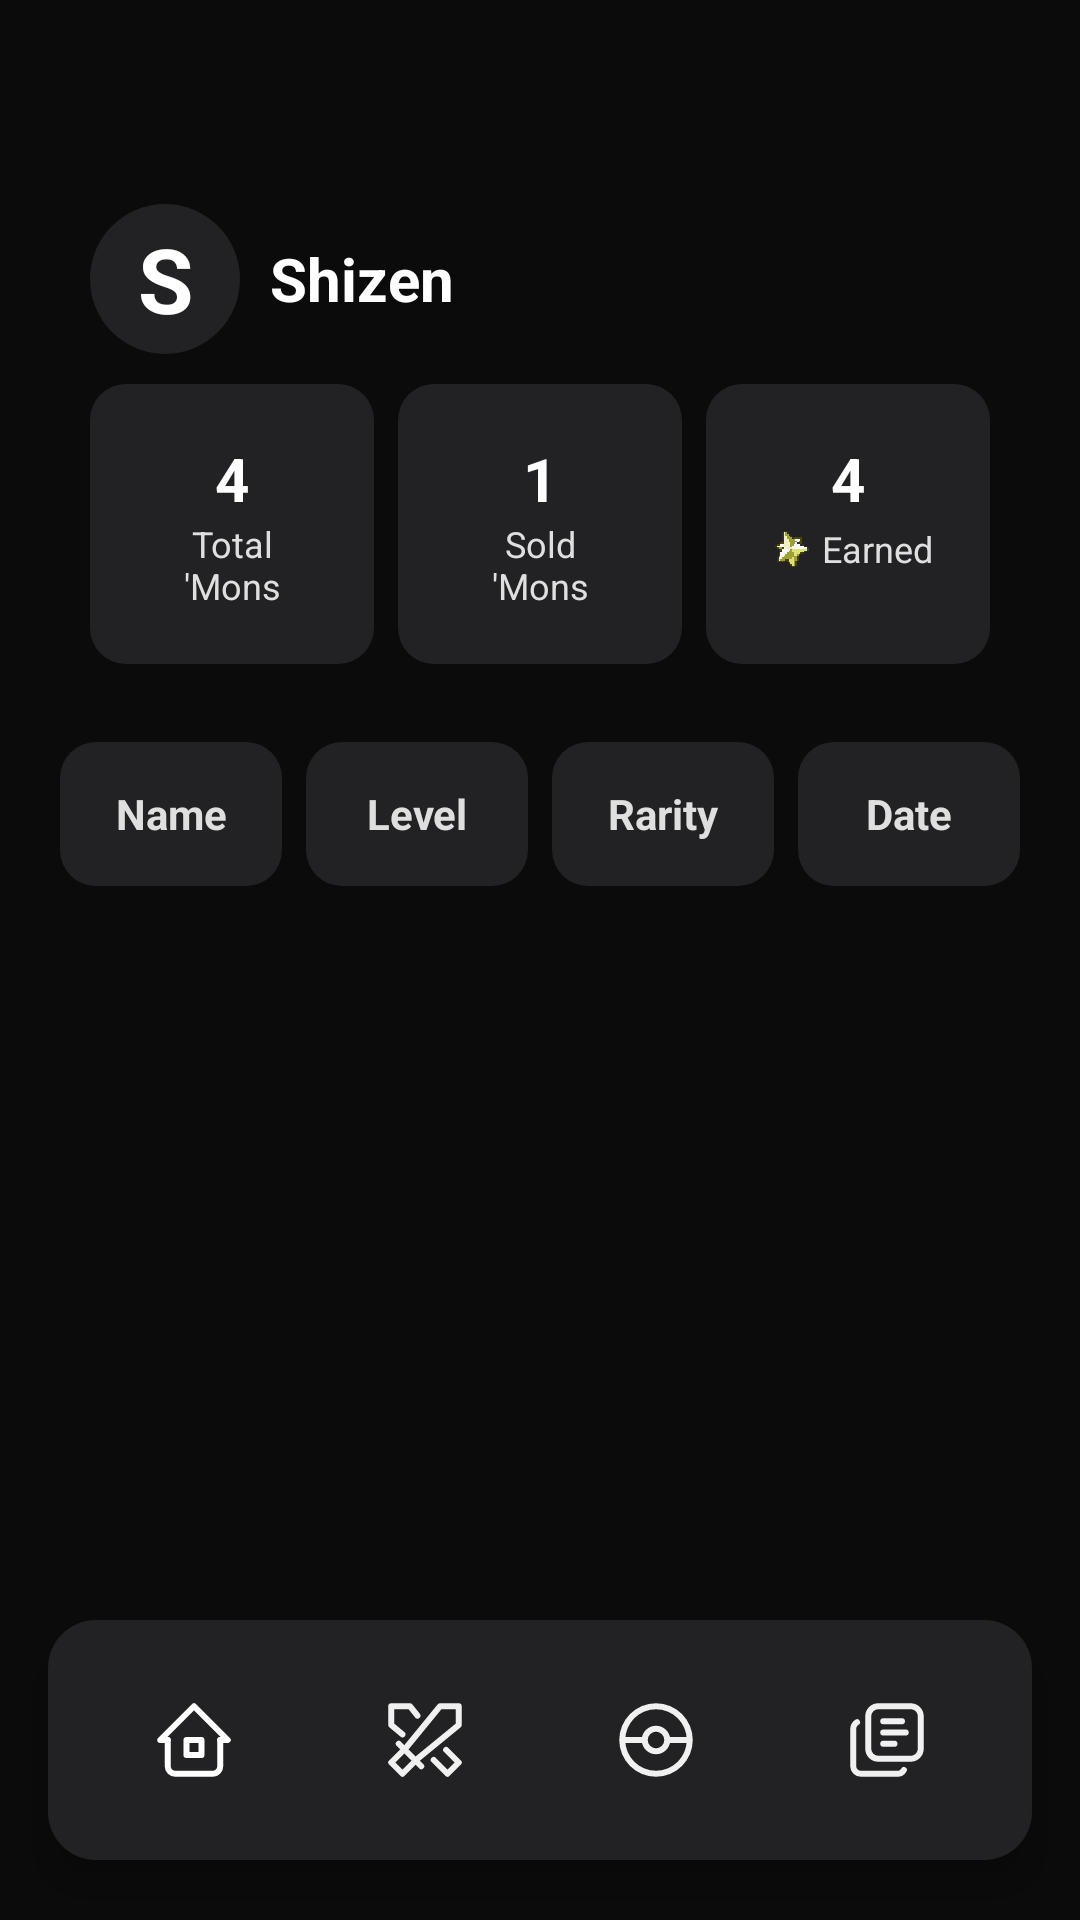

Icons on this 1080 x 1920 Android screen, each with its box as (x1, y1, x2, y2):
currency: (775, 532, 809, 567)
tabler home: (157, 1703, 231, 1777)
tabler librarynav: (850, 1703, 924, 1777)
tabler swords: (388, 1703, 462, 1777)
